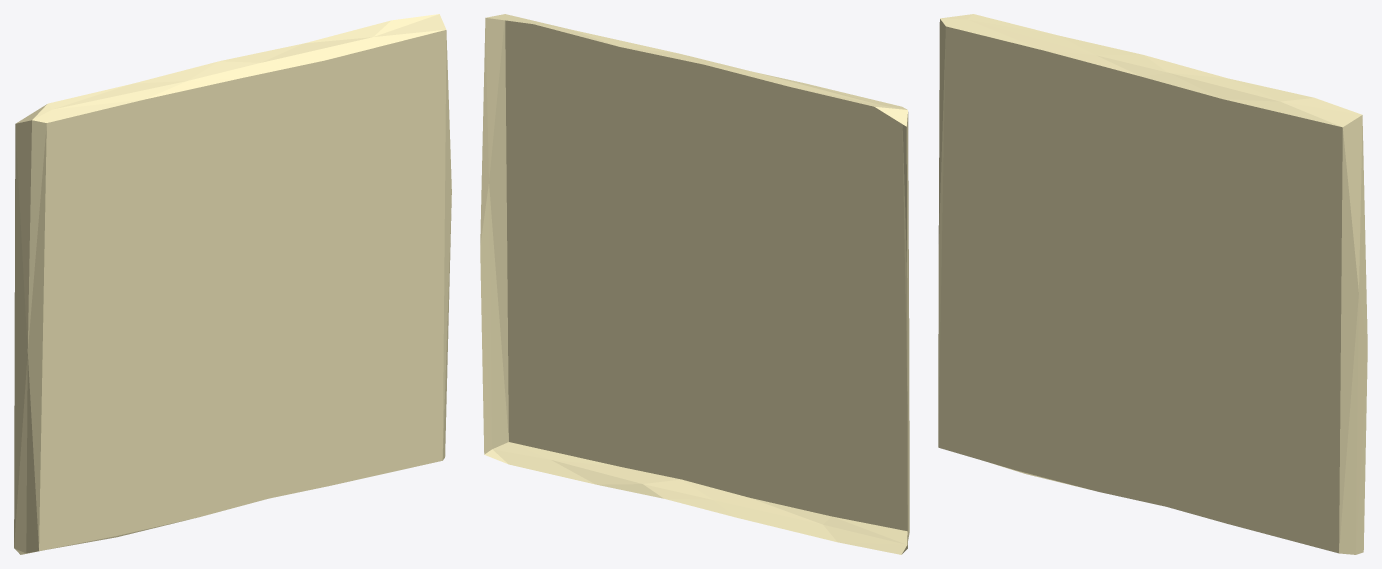
Rendered from ui_button_1x1.glb.
3 views of the same model, side by side, from view 1: azimuth 30°, elevation 25°; view 2: azimuth 150°, elevation 25°; view 3: azimuth 330°, elevation 25° (orthographic).
Parts seen in each view (by area): view 1: Cube; view 2: Cube; view 3: Cube.
Part boxes in pixels (x1,y1,x2,y2): Cube: (14,14,451,554); Cube: (480,14,909,554); Cube: (938,14,1367,554).
Bounding box in the file's own units: 1.99 × 1.99 × 0.1075.
